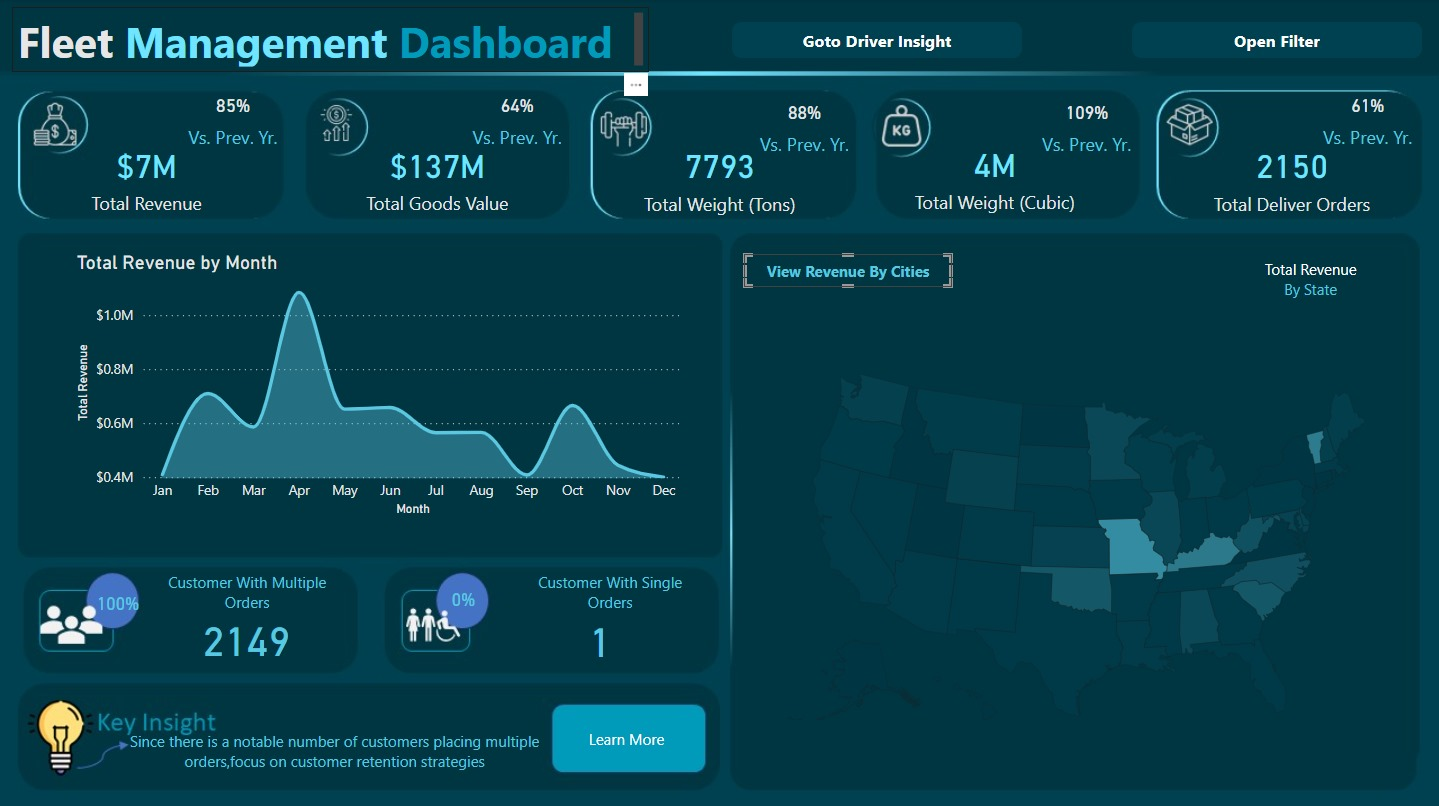

The page's visual inventory and layout, read from the dashboard file:
{"tool":"powerbi","page":{"name":"Page Revenue Insight","canvas":[1280,720],"ordinal":2},"visuals":[{"type":"actionButton","title":"Show","box":[661.2,226.6,185,29],"z":0,"group":"g1"},{"type":"shapeMap","fields":{"Category":["STATES.Full Name"],"Value":["Revenue Insight Measures.Total Revenue"]},"box":[668.5,279.5,578.4,416.4],"z":0},{"type":"card","fields":{"Values":["Revenue Insight Measure.Total Revenue"]},"box":[53,116,154,82],"z":1000},{"type":"card","fields":{"Values":["Revenue Insight Measure.Total Goods Value"]},"box":[310,116,157,82],"z":2000},{"type":"card","fields":{"Values":["Revenue Insight Measure.Total Weight (Tons)"]},"box":[555,118,170,79],"z":3000},{"type":"card","fields":{"Values":["Revenue Insight Measure.Total Weight (Cubic)"]},"box":[799,114,170,85],"z":4000},{"type":"card","fields":{"Values":["Revenue Insight Measure.Total Deliver Orders"]},"box":[1073,118,151,79],"z":5000},{"type":"card","fields":{"Values":["Revenue Insight Measure.(%) YoY Growth Revenue"]},"box":[140,80,133,52],"z":6000},{"type":"card","fields":{"Values":["Revenue Insight Measure.(%) YoY Growth Goods Value"]},"box":[399,80,121,52],"z":7000},{"type":"card","fields":{"Values":["(%) YoY Growth Weights(Tons).(%) YoY Growth Weigth Tons"]},"box":[660,86,109,52],"z":8000},{"type":"card","fields":{"Values":["(%) YoY Growth Weights(Tons).(%) YoY Growth Weigth Cubic"]},"box":[905,86,122,52],"z":9000},{"type":"card","fields":{"Values":["(%) YoY Growth Weights(Tons).(%) YoY Growth Delivery Orders"]},"box":[1151,80,129,52],"z":10000},{"type":"card","fields":{"Values":["Revenue Insight Measures.Customers with Multiple Orders"]},"box":[140,534,157,68],"z":11000},{"type":"card","fields":{"Values":["Revenue Insight Measures.Customers with One Orders"]},"box":[443,535,181,67],"z":12000},{"type":"card","fields":{"Values":["Revenue Insight Measures.% of Repeat Customers"]},"box":[79,515,51,47],"z":13000},{"type":"card","fields":{"Values":["Revenue Insight Measures.% of One-Time Customers"]},"box":[389,516,45,36],"z":14000},{"type":"areaChart","fields":{"Category":["DateTable.Months.Year","DateTable.Months.Month","DateTable.Months.Quarter"],"Y":["Revenue Insight Measures.Total Revenue"]},"box":[63,224,548,240],"z":15000},{"type":"textbox","box":[130,505,180,47],"z":16000},{"type":"textbox","box":[460,505,164,57],"z":17000},{"type":"textbox","box":[11,7,566,58],"z":18000},{"type":"shape","box":[1006.2,20.4,257.8,32],"z":19000},{"type":"textbox","box":[1082.7,226.3,164.8,57],"z":20000},{"type":"shape","box":[651,20,258,32],"z":22000},{"type":"group","id":"g1","title":"Btn","box":[661.2,226.6,185,29],"z":24000},{"type":"textbox","box":[98.9,646.1,397.7,49.5],"z":25000},{"type":"actionButton","box":[489.6,626.9,134.3,61.6],"z":25001}]}

Visuals, with their boxes in screenshot pixels (x1, y1, x2, y2), scaled from the page's 1280x720 canvas onto the 1439x806 screenshot:
"Show" actionButton: box=[743, 254, 951, 286]
shapeMap - STATES.Full Name x Revenue Insight Measures.Total Revenue: box=[752, 313, 1402, 779]
card - Revenue Insight Measure.Total Revenue: box=[60, 130, 233, 222]
card - Revenue Insight Measure.Total Goods Value: box=[349, 130, 525, 222]
card - Revenue Insight Measure.Total Weight (Tons): box=[624, 132, 815, 221]
card - Revenue Insight Measure.Total Weight (Cubic): box=[898, 128, 1089, 223]
card - Revenue Insight Measure.Total Deliver Orders: box=[1206, 132, 1376, 221]
card - Revenue Insight Measure.(%) YoY Growth Revenue: box=[157, 90, 307, 148]
card - Revenue Insight Measure.(%) YoY Growth Goods Value: box=[449, 90, 585, 148]
card - (%) YoY Growth Weights(Tons).(%) YoY Growth Weigth Tons: box=[742, 96, 865, 154]
card - (%) YoY Growth Weights(Tons).(%) YoY Growth Weigth Cubic: box=[1017, 96, 1155, 154]
card - (%) YoY Growth Weights(Tons).(%) YoY Growth Delivery Orders: box=[1294, 90, 1438, 148]
card - Revenue Insight Measures.Customers with Multiple Orders: box=[157, 598, 334, 674]
card - Revenue Insight Measures.Customers with One Orders: box=[498, 599, 702, 674]
card - Revenue Insight Measures.% of Repeat Customers: box=[89, 577, 146, 629]
card - Revenue Insight Measures.% of One-Time Customers: box=[437, 578, 488, 618]
areaChart - DateTable.Months.Year x DateTable.Months.Month: box=[71, 251, 687, 519]
textbox: box=[146, 565, 349, 618]
textbox: box=[517, 565, 702, 629]
textbox: box=[12, 8, 649, 73]
shape: box=[1131, 23, 1421, 59]
textbox: box=[1217, 253, 1402, 317]
shape: box=[732, 22, 1022, 58]
"Btn" group: box=[743, 254, 951, 286]
textbox: box=[111, 723, 558, 779]
actionButton: box=[550, 702, 701, 771]
